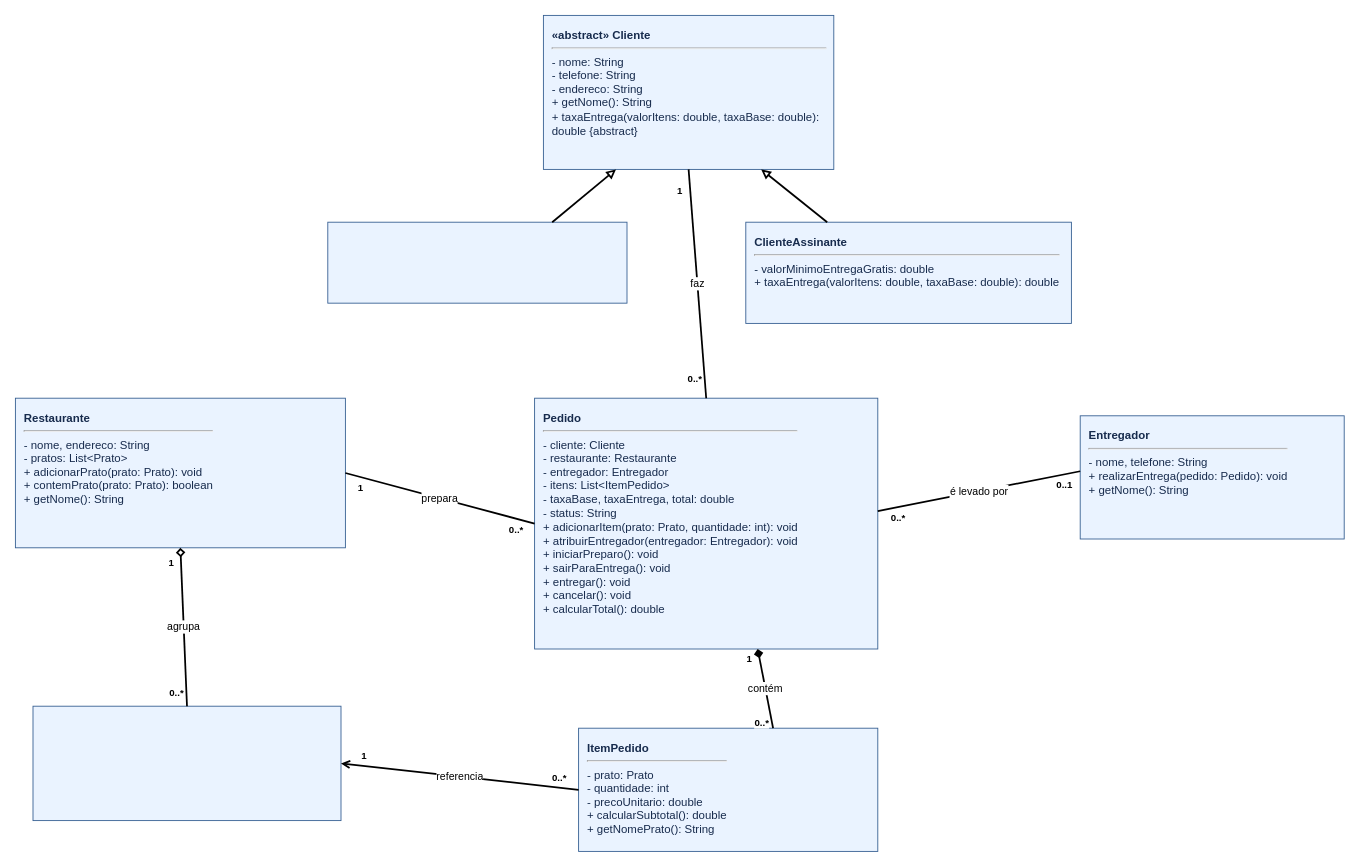
Some shapes in this 1360 by 867 pixel diagram are drawn without their labels. Each missing label, with the centre of its shape:
ClienteComum + taxaEntrega(valorItens: double, taxaBase: double): double: point 477,262
Prato - nome: String - preco: double + obterPreco(): double + getNome(): String: point 186,763
